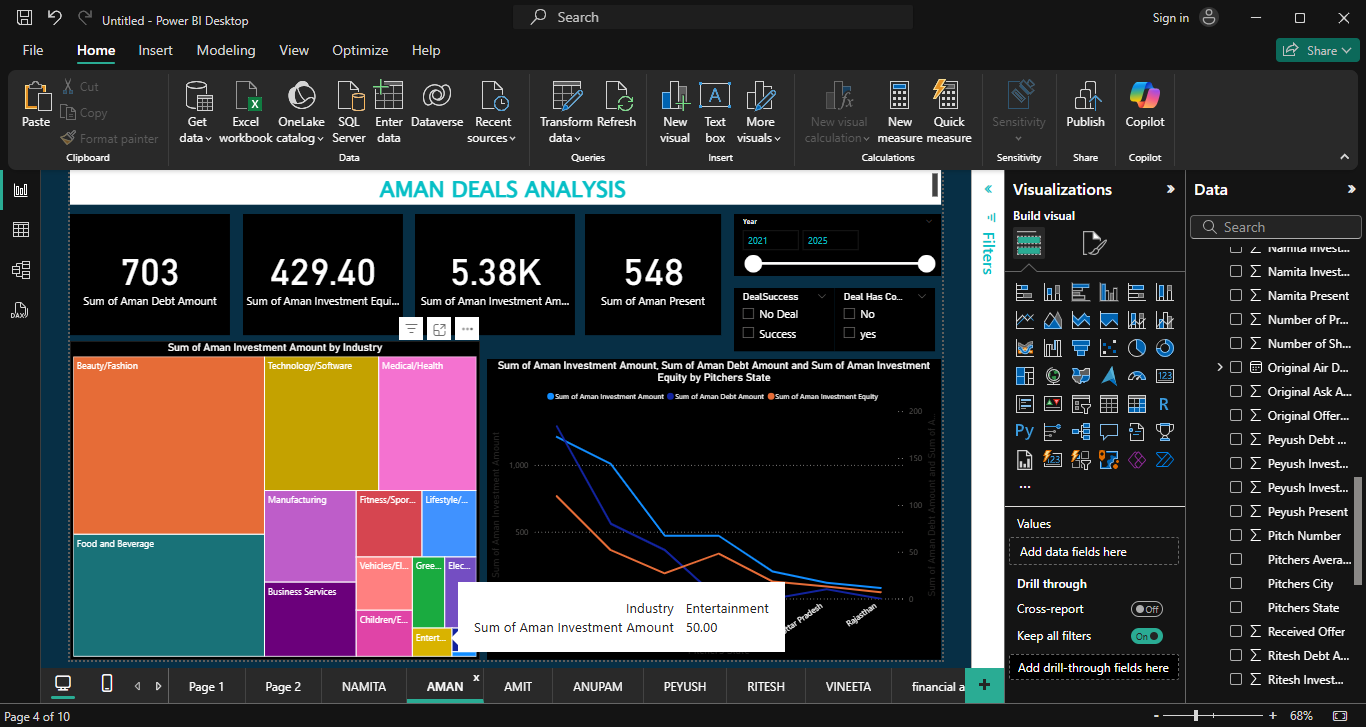

The dashboard page shown, as its layout file describes it:
{"tool":"powerbi","page":{"name":"AMAN","canvas":[1280,720],"ordinal":3},"visuals":[{"type":"card","fields":{"Values":["Sum(Shark_Tank_India_Cleaned.Aman Debt Amount)"]},"box":[0,64.7,235.1,177.8],"z":0},{"type":"card","fields":{"Values":["Sum(Shark_Tank_India_Cleaned.Aman Investment Equity)"]},"box":[254.2,64.7,235.1,177.8],"z":1000},{"type":"card","fields":{"Values":["Sum(Shark_Tank_India_Cleaned.Aman Investment Amount)"]},"box":[506.9,64.7,235.1,177.8],"z":2000},{"type":"card","fields":{"Values":["Sum(Shark_Tank_India_Cleaned.Aman Present)"]},"box":[756.7,64.7,199.8,177.8],"z":3000},{"type":"slicer","fields":{"Values":["Shark_Tank_India_Cleaned.Year"]},"box":[975.7,64.7,304.2,89.6],"z":4000},{"type":"textbox","box":[0,0,1279.8,51.4],"z":5000},{"type":"treemap","fields":{"Group":["Shark_Tank_India_Cleaned.Industry"],"Values":["Sum(Shark_Tank_India_Cleaned.Aman Investment Amount)"]},"box":[0,251.3,602.4,468.7],"z":6000},{"type":"slicer","fields":{"Values":["Shark_Tank_India_Cleaned.DealSuccess"]},"box":[975.7,173.4,148.4,92.6],"z":7000},{"type":"slicer","fields":{"Values":["Shark_Tank_India_Cleaned.Deal Has Conditions"]},"box":[1124.1,173.4,146.9,92.6],"z":8000},{"type":"lineChart","fields":{"Y":["Sum(Shark_Tank_India_Cleaned.Aman Investment Amount)"],"Y2":["Sum(Shark_Tank_India_Cleaned.Aman Debt Amount)","Sum(Shark_Tank_India_Cleaned.Aman Investment Equity)"],"Category":["Shark_Tank_India_Cleaned.Pitchers State"]},"box":[612.7,277.7,667.1,442.3],"z":9000}]}

Visuals, with their boxes on the page's 1280x720 design canvas (x1, y1, x2, y2). These are canvas units, not pixel positions in the 1366x727 screenshot, which may show the page scaled, cropped or inside an application window:
card - Sum(Shark_Tank_India_Cleaned.Aman Debt Amount): [0,65,235,242]
card - Sum(Shark_Tank_India_Cleaned.Aman Investment Equity): [254,65,489,242]
card - Sum(Shark_Tank_India_Cleaned.Aman Investment Amount): [507,65,742,242]
card - Sum(Shark_Tank_India_Cleaned.Aman Present): [757,65,956,242]
slicer - Shark_Tank_India_Cleaned.Year: [976,65,1280,154]
textbox: [0,0,1280,51]
treemap - Shark_Tank_India_Cleaned.Industry x Sum(Shark_Tank_India_Cleaned.Aman Investment Amount): [0,251,602,720]
slicer - Shark_Tank_India_Cleaned.DealSuccess: [976,173,1124,266]
slicer - Shark_Tank_India_Cleaned.Deal Has Conditions: [1124,173,1271,266]
lineChart - Sum(Shark_Tank_India_Cleaned.Aman Investment Amount) x Sum(Shark_Tank_India_Cleaned.Aman Debt Amount): [613,278,1280,720]
